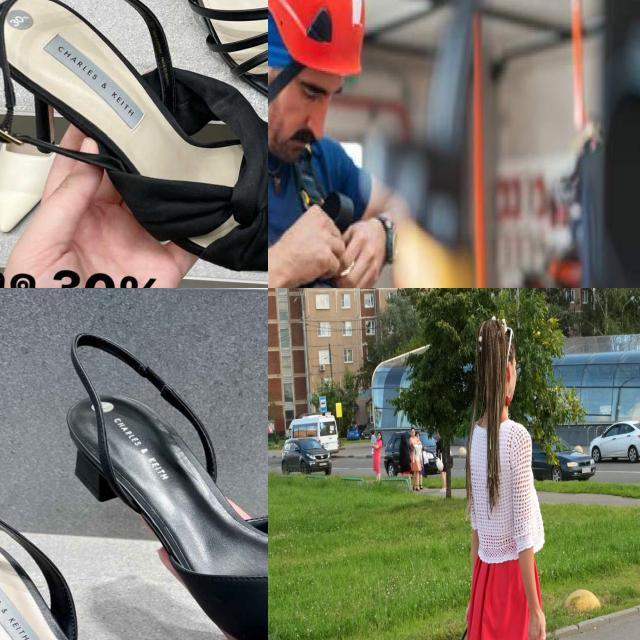Harness: (268, 154, 356, 288)
Sandals: (27, 300, 268, 640), (0, 0, 268, 288), (0, 455, 268, 640), (93, 0, 268, 154)
